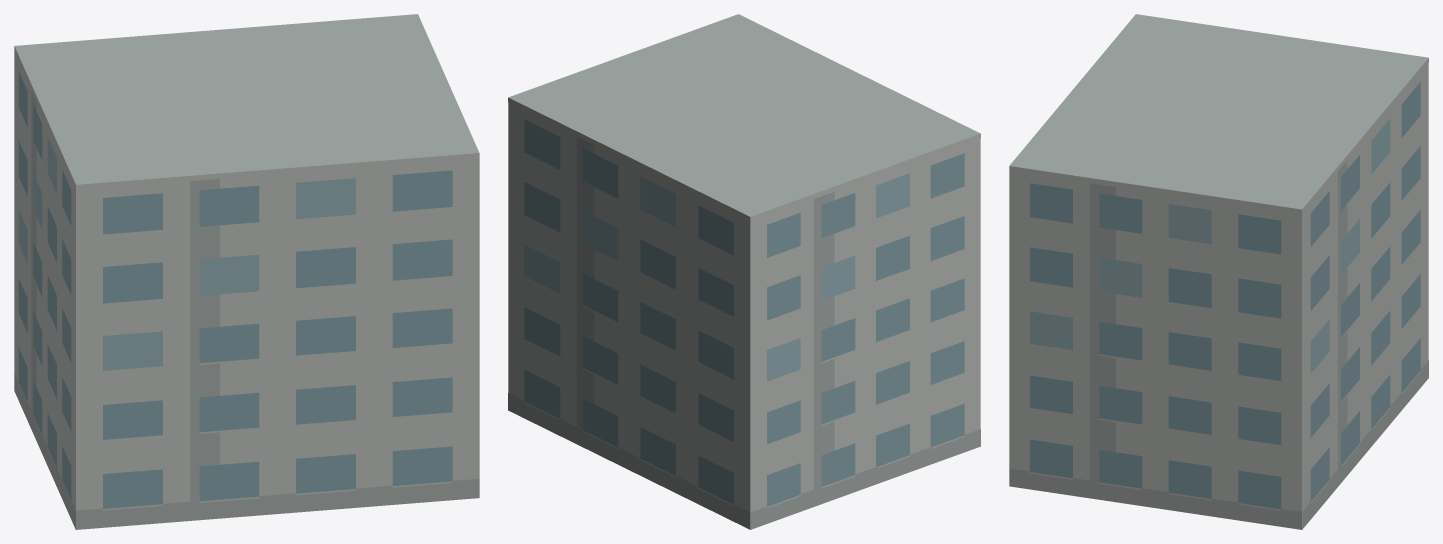
File: residential-22a24110-6efa-4429-b909-4d1d9a14f027.glb
3 views of the same model, side by side, from view 1: azimuth 30°, elevation 25°; view 2: azimuth 150°, elevation 25°; view 3: azimuth 270°, elevation 25° (orthographic). The views are drawn at different scales.
Parts seen in each view (by area): view 1: residential-22a24110-6efa-4429-b909-4d1d9a14f027.tmp; view 2: residential-22a24110-6efa-4429-b909-4d1d9a14f027.tmp; view 3: residential-22a24110-6efa-4429-b909-4d1d9a14f027.tmp.
Boxes of the visible parts, bbox=[...] form: residential-22a24110-6efa-4429-b909-4d1d9a14f027.tmp: bbox=[14, 14, 479, 529]; residential-22a24110-6efa-4429-b909-4d1d9a14f027.tmp: bbox=[508, 14, 980, 529]; residential-22a24110-6efa-4429-b909-4d1d9a14f027.tmp: bbox=[1009, 14, 1428, 529].
Bounding box in the file's own units: 19.97 × 15.25 × 18.11.
